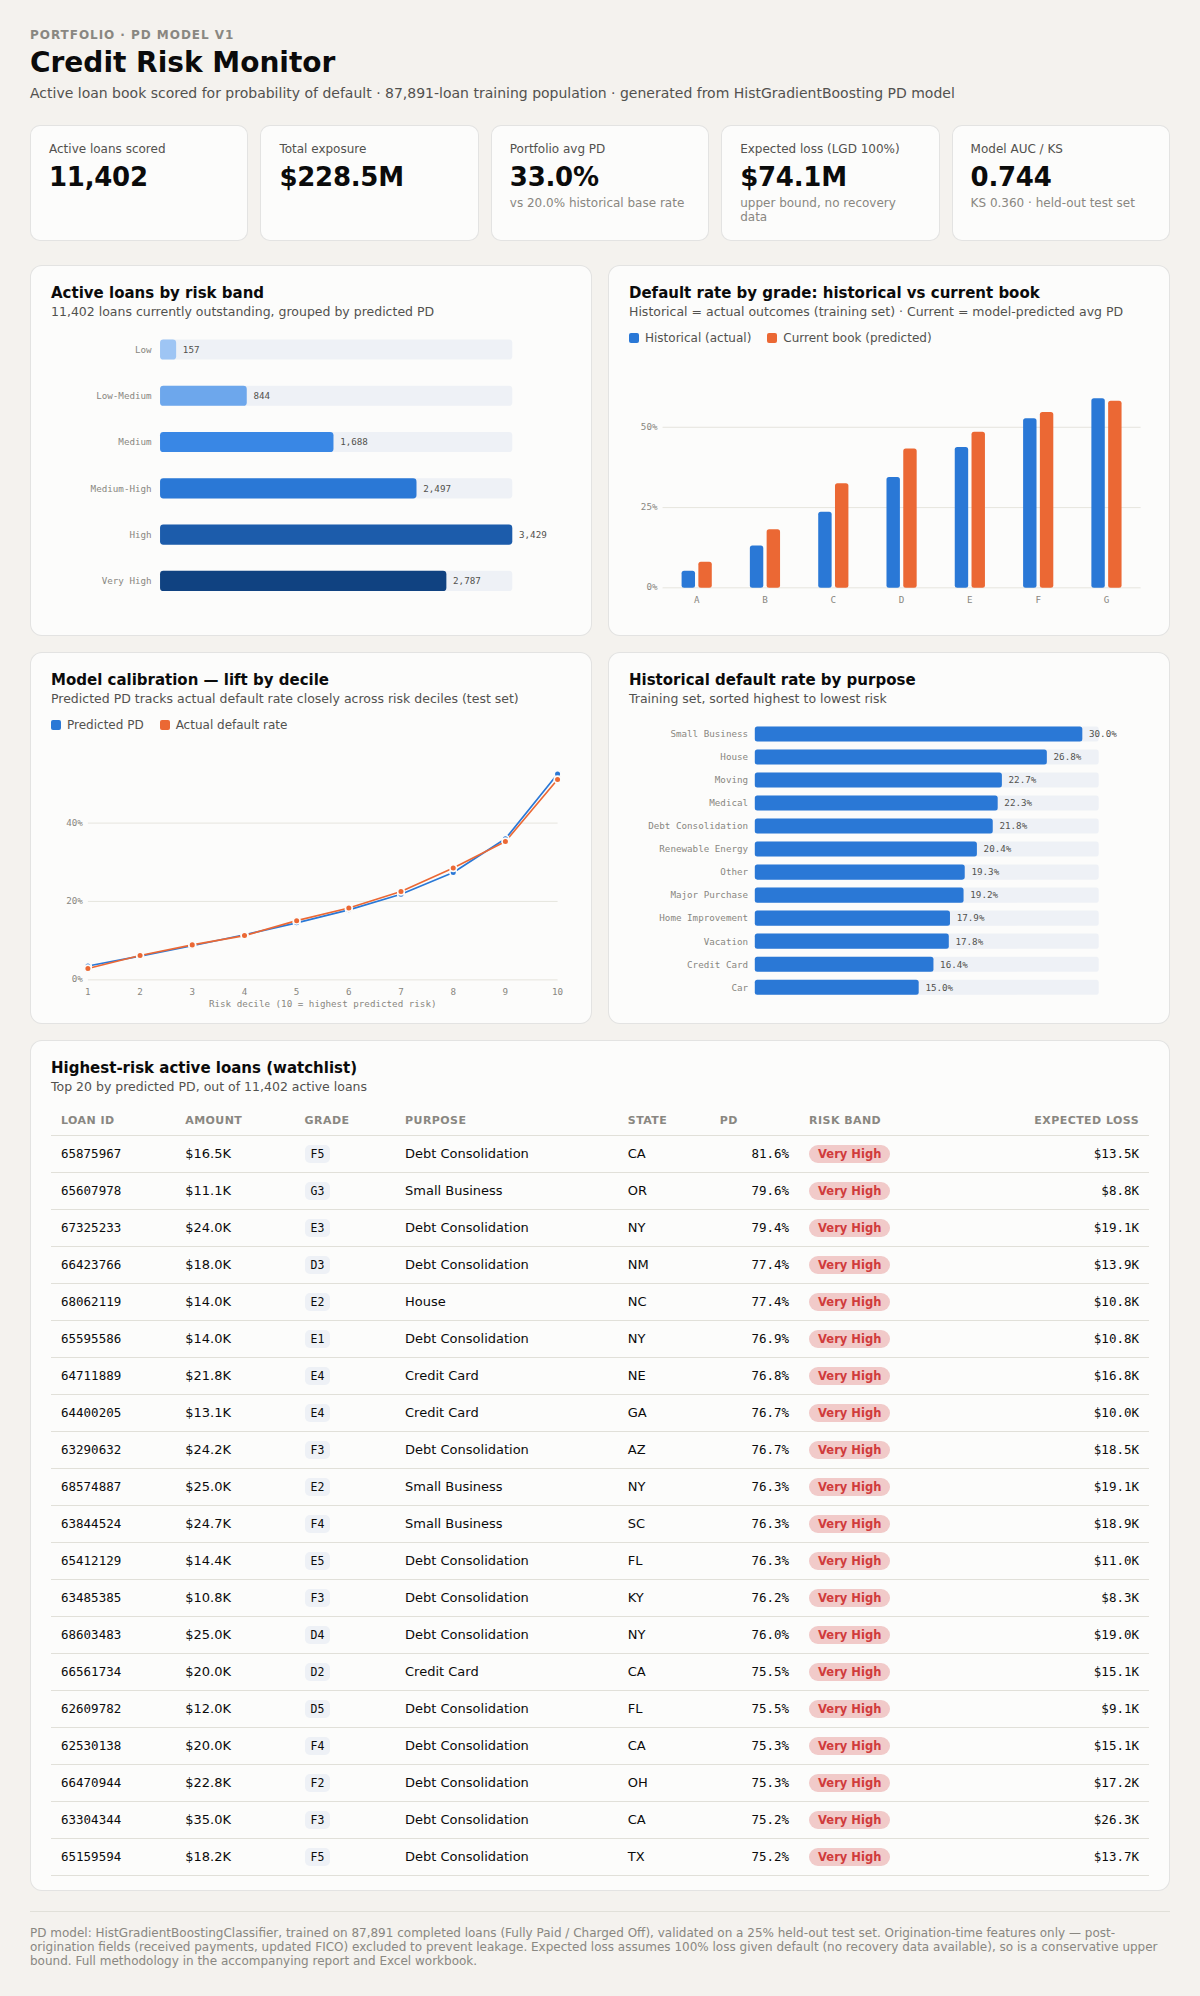

This screenshot's page, from the dashboard's own definition file:
{"tool":"powerbi","page":{"name":"Model & Risk","canvas":[1280,720],"ordinal":2},"visuals":[{"type":"cardVisual","fields":{"Data":["fact_scored_loans.Actual Default Rate"]},"box":[646,16,303,100],"z":0},{"type":"cardVisual","fields":{"Data":["fact_scored_loans.Avg Predicted PD"]},"box":[331,16,303,100],"z":1000},{"type":"cardVisual","fields":{"Data":["fact_scored_loans.Loans Scored"]},"box":[16,16,303,100],"z":2000},{"type":"cardVisual","fields":{"Data":["fact_scored_loans.Loss Variance"]},"box":[961,16,303,100],"z":3000},{"type":"lineChart","title":"Predicted PD vs Actual Default Rate","fields":{"Category":["agg_model_calibration.decile"],"Y":["Sum(agg_model_calibration.avg_predicted_pd)","Sum(agg_model_calibration.actual_default_rate)"]},"box":[16,128,676,282],"z":4000},{"type":"clusteredColumnChart","title":"Predicted vs Actual Default Rate by Risk Band","fields":{"Category":["agg_risk_band_summary.risk_band"],"Y":["Sum(agg_risk_band_summary.avg_predicted_pd)","Sum(agg_risk_band_summary.actual_default_rate)"]},"box":[16,422,676,282],"z":5000},{"type":"tableEx","title":"Highest-Risk Loans","fields":{"Values":["fact_scored_loans.loan_id","fact_scored_loans.sub_grade","fact_scored_loans.funded_amnt","fact_scored_loans.state","fact_scored_loans.predicted_pd","fact_scored_loans.actual_default"]},"box":[704,128,560,576],"z":6000}]}

Visuals, with their boxes on the page's 1280x720 design canvas (x1, y1, x2, y2). These are canvas units, not pixel positions in the 1200x1996 screenshot, which may show the page scaled, cropped or inside an application window:
cardVisual - fact_scored_loans.Actual Default Rate: select_region(646, 16, 949, 116)
cardVisual - fact_scored_loans.Avg Predicted PD: select_region(331, 16, 634, 116)
cardVisual - fact_scored_loans.Loans Scored: select_region(16, 16, 319, 116)
cardVisual - fact_scored_loans.Loss Variance: select_region(961, 16, 1264, 116)
"Predicted PD vs Actual Default Rate" lineChart: select_region(16, 128, 692, 410)
"Predicted vs Actual Default Rate by Risk Band" clusteredColumnChart: select_region(16, 422, 692, 704)
"Highest-Risk Loans" tableEx: select_region(704, 128, 1264, 704)
